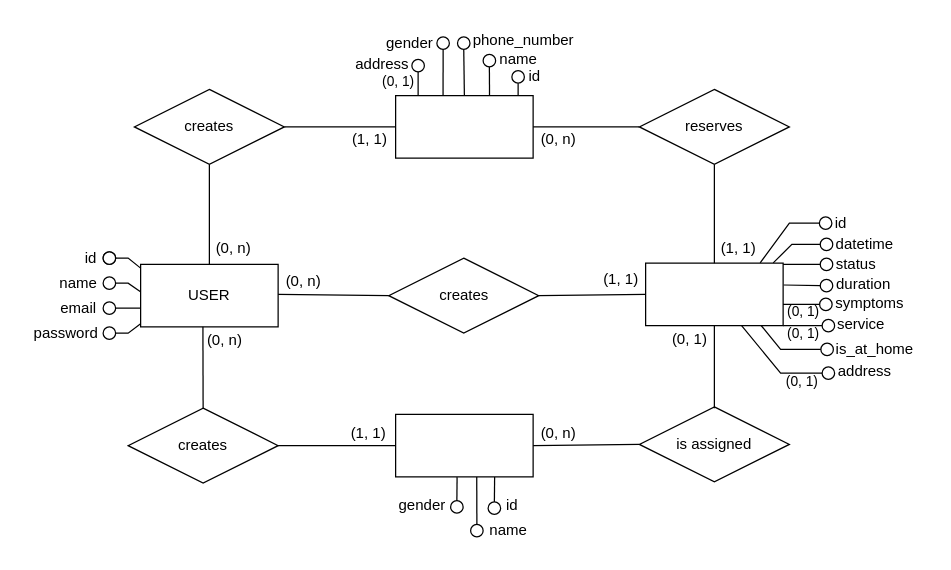
This 951x570 diagram has some shape labels left out. Each missing label, with the box of its shape:
APPOINTMENT: (644, 262, 783, 326)
DOCTOR: (394, 413, 533, 477)
PATIENT: (394, 94, 533, 158)
